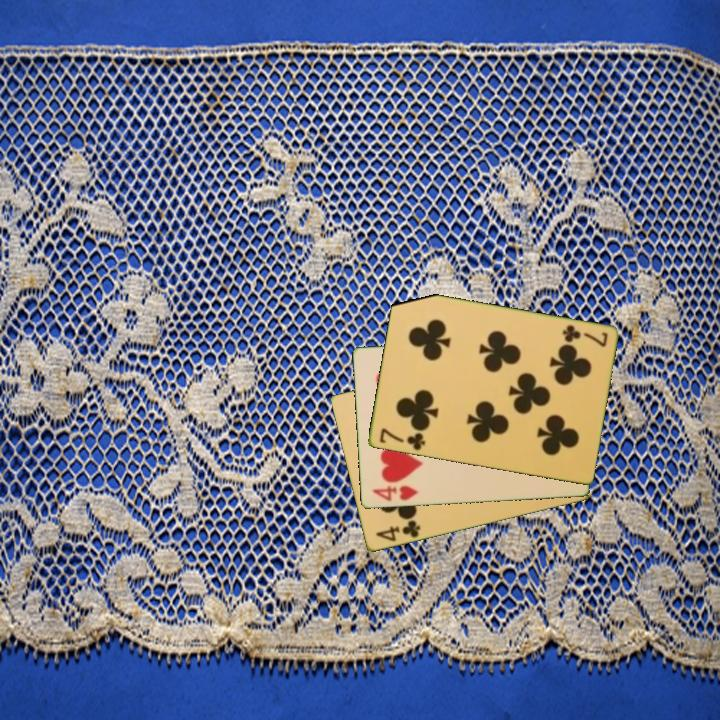4c: (372, 517, 423, 545)
4h: (368, 482, 421, 504)
7c: (558, 321, 610, 350), (376, 425, 428, 453)
